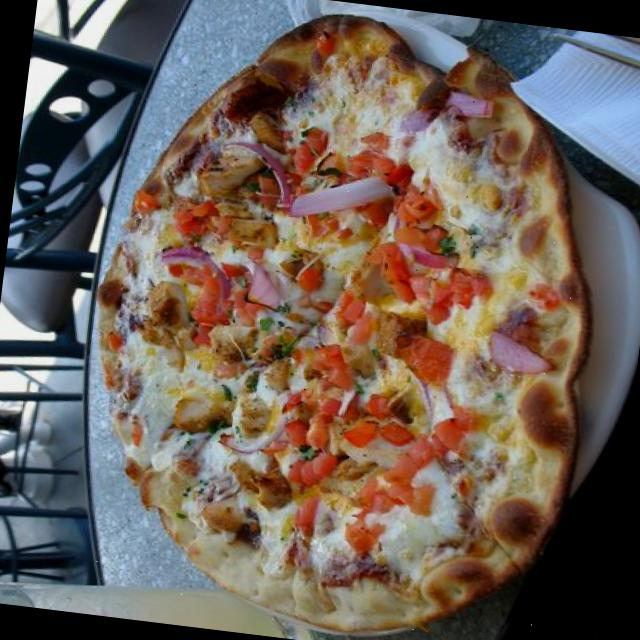pizza: (98, 14, 589, 634)
tomato: (364, 228, 496, 326), (344, 450, 438, 560), (394, 389, 484, 477), (296, 340, 364, 432), (339, 380, 422, 452), (167, 192, 249, 259), (345, 131, 424, 188), (394, 326, 459, 387), (188, 259, 257, 314), (182, 286, 268, 328), (278, 395, 334, 458), (322, 293, 383, 346), (280, 442, 342, 490), (392, 184, 443, 242), (284, 486, 327, 544), (298, 212, 357, 248), (516, 278, 568, 318), (288, 128, 327, 174), (295, 246, 330, 289), (131, 188, 166, 220), (97, 323, 128, 352), (310, 27, 336, 60), (124, 418, 147, 450)
